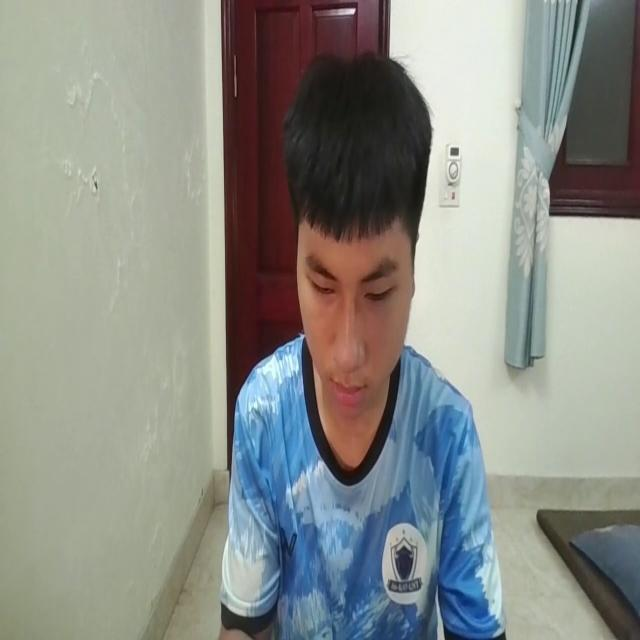student: (226, 46, 505, 640)
